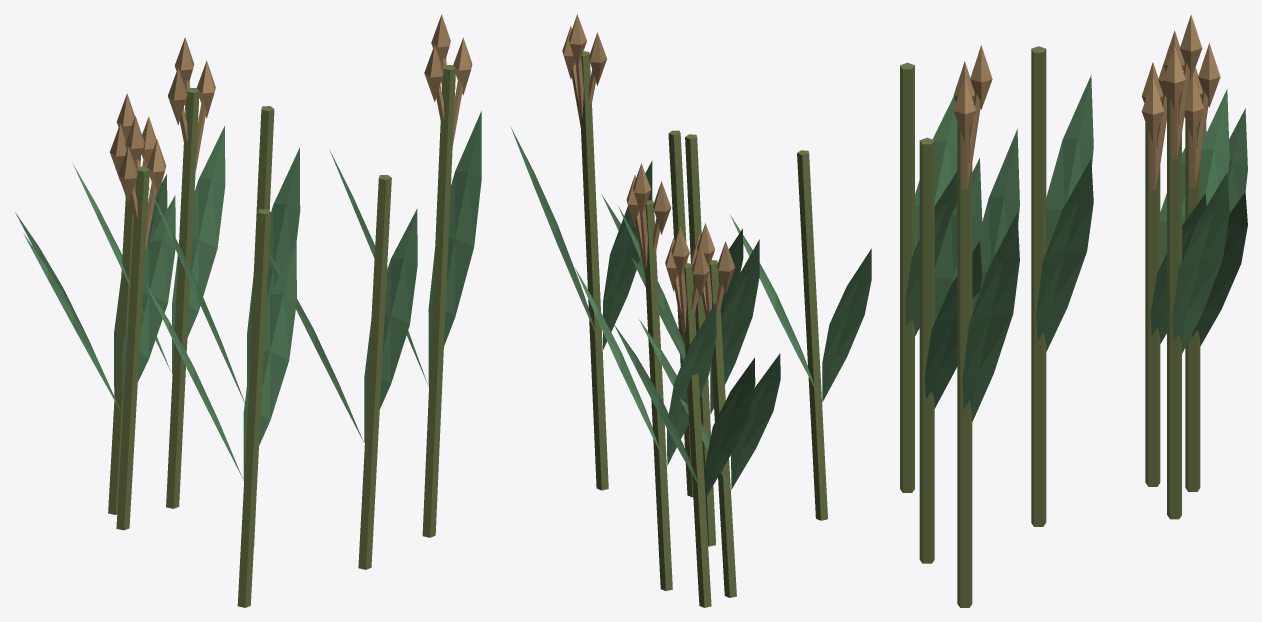
The model's file is reeds_a.glb.
3 views of the same model, side by side, from view 1: azimuth 30°, elevation 25°; view 2: azimuth 150°, elevation 25°; view 3: azimuth 270°, elevation 25° (orthographic). The views are drawn at different scales.
Parts seen in each view (by area): view 1: geometry; view 2: geometry; view 3: geometry.
Part boxes in pixels (left/top/right/bottom): geometry: left=15, top=14, right=481, bottom=607; geometry: left=510, top=14, right=871, bottom=607; geometry: left=900, top=14, right=1247, bottom=607.
Bounding box in the file's own units: 0.7357 × 0.9581 × 0.5286.
